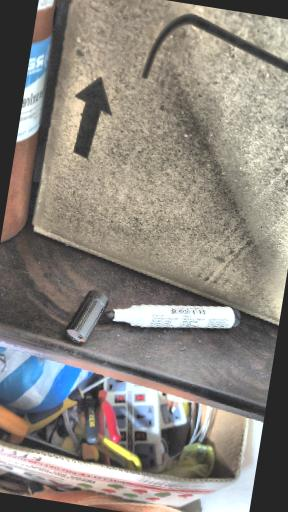marcador negro: (114, 305, 240, 329)
